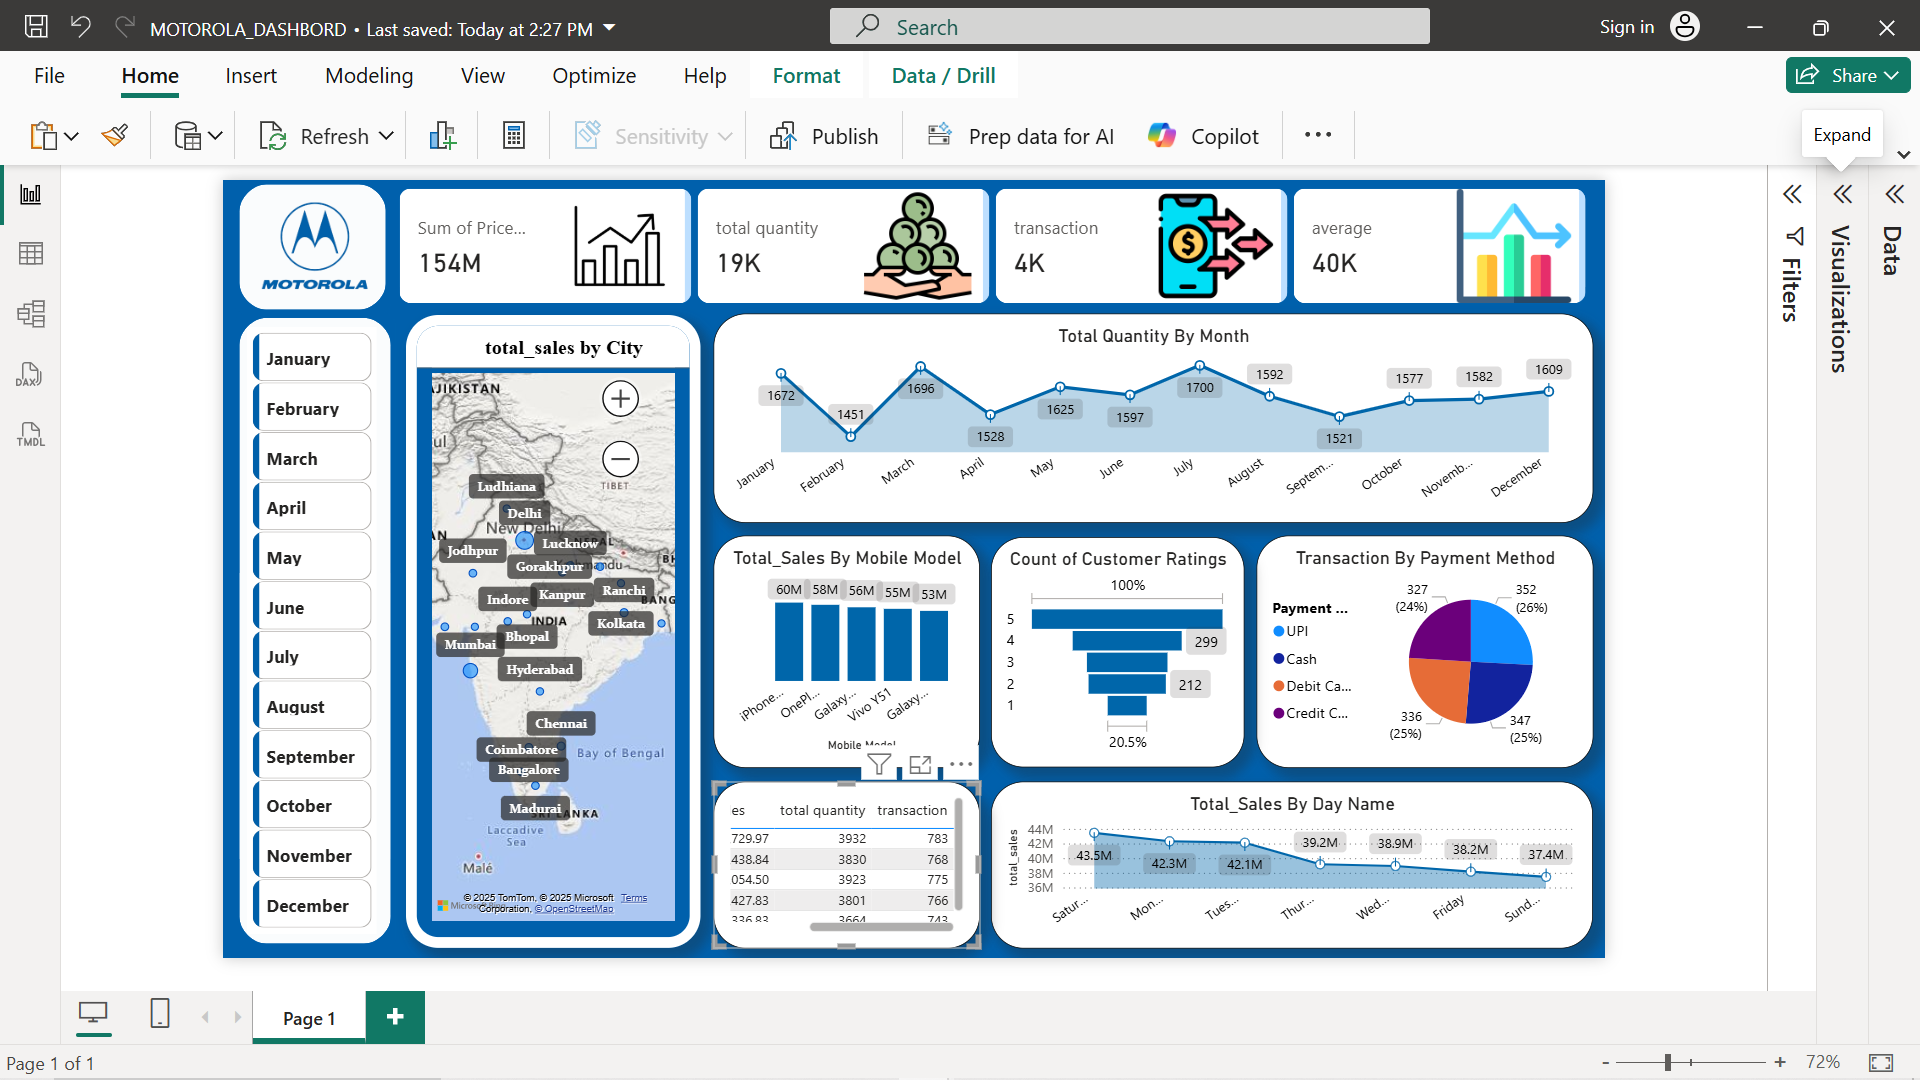

Layout of this report page (visuals, bound fields, positions):
{"tool":"powerbi","page":{"name":"Page 1","canvas":[1280,720],"ordinal":0},"visuals":[{"type":"shape","box":[10.6,0,143.8,124.2],"z":0},{"type":"image","box":[15.1,7.6,139.3,107.5],"z":1000},{"type":"shape","box":[10.6,124.2,148.4,587.5],"z":2000},{"type":"advancedSlicerVisual","fields":{"Values":["Sheet1.Date.Variation.Date Hierarchy.Month"]},"box":[22.2,136,120.3,562.2],"z":3000},{"type":"cardVisual","fields":{"Data":["Sum(salse_data.Price Per Unit)","salse_data.total quantity","salse_data.transaction","salse_data.average"]},"box":[159,3,1109.9,116.6],"z":4000},{"type":"map","fields":{"Size":["salse_data.total_sales"],"Category":["salse_data.City"]},"box":[169.6,125.7,272.6,586],"z":5000},{"type":"lineChart","title":"Total Quantity By Month","fields":{"Y":["salse_data.total quantity"],"Category":["salse_data.Date.Variation.Date Hierarchy.Month"]},"box":[454.3,124.2,814.6,193.8],"z":6000},{"type":"clusteredColumnChart","title":"Total_Sales By Mobile Model","fields":{"Category":["salse_data.Mobile Model"],"Y":["salse_data.total_sales"]},"box":[454.3,328.6,246.8,215],"z":7000},{"type":"pieChart","title":"Transaction By Payment Method","fields":{"Category":["salse_data.Payment Method"],"Y":["salse_data.transaction"]},"box":[957,328.6,311.9,215],"z":8000},{"type":"funnel","title":"Count of Customer Ratings","fields":{"Category":["salse_data.Customer Ratings"],"Y":["CountNonNull(salse_data.Customer Ratings)"]},"box":[711.7,330.1,234.7,213.5],"z":9000},{"type":"areaChart","title":"Total_Sales By Day Name","fields":{"Category":["salse_data.Day Name"],"Y":["salse_data.total_sales"]},"box":[711.7,557.2,557.2,154.4],"z":10000},{"type":"tableEx","fields":{"Values":["salse_data.Brand","salse_data.total_sales","salse_data.total quantity","salse_data.transaction"]},"box":[454.3,557.2,246.8,154.4],"z":11000}]}

Visuals, with their boxes on the page's 1280x720 design canvas (x1, y1, x2, y2). These are canvas units, not pixel positions in the 1920x1080 screenshot, which may show the page scaled, cropped or inside an application window:
shape: [11,0,154,124]
image: [15,8,154,115]
shape: [11,124,159,712]
advancedSlicerVisual - Sheet1.Date.Variation.Date Hierarchy.Month: [22,136,142,698]
cardVisual - Sum(salse_data.Price Per Unit) x salse_data.total quantity: [159,3,1269,120]
map - salse_data.total_sales x salse_data.City: [170,126,442,712]
"Total Quantity By Month" lineChart: [454,124,1269,318]
"Total_Sales By Mobile Model" clusteredColumnChart: [454,329,701,544]
"Transaction By Payment Method" pieChart: [957,329,1269,544]
"Count of Customer Ratings" funnel: [712,330,946,544]
"Total_Sales By Day Name" areaChart: [712,557,1269,712]
tableEx - salse_data.Brand x salse_data.total_sales: [454,557,701,712]
